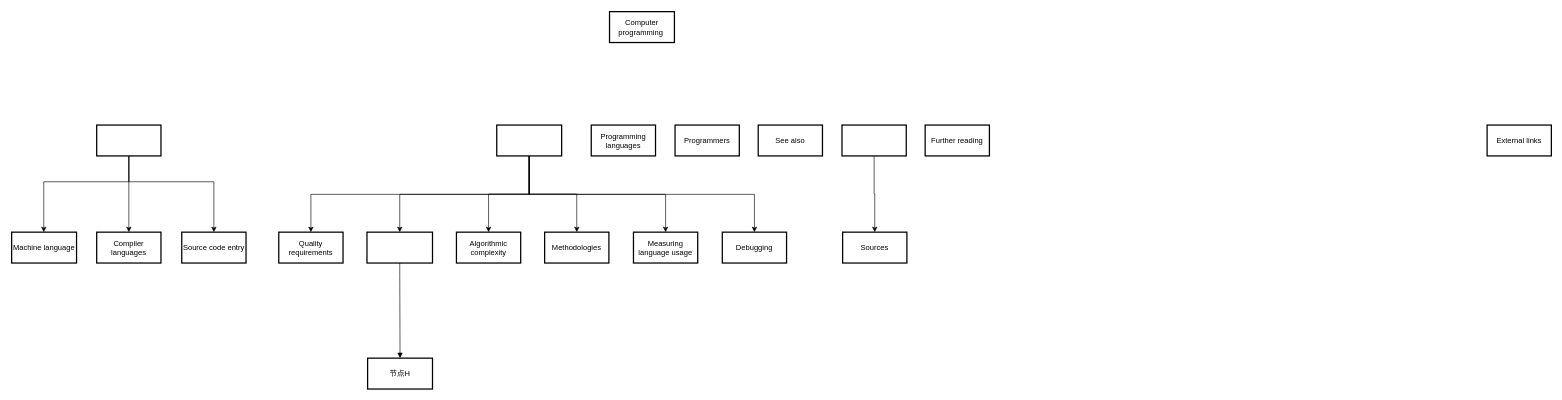
The diagram is 1562 pixels wide and 400 high, and some of its shapes have lost their labels. Each missing label, with the box of its shape:
History: (96, 124, 161, 156)
Modern programming: (496, 124, 562, 156)
Readability of source code: (366, 231, 433, 263)
References: (841, 124, 907, 156)
